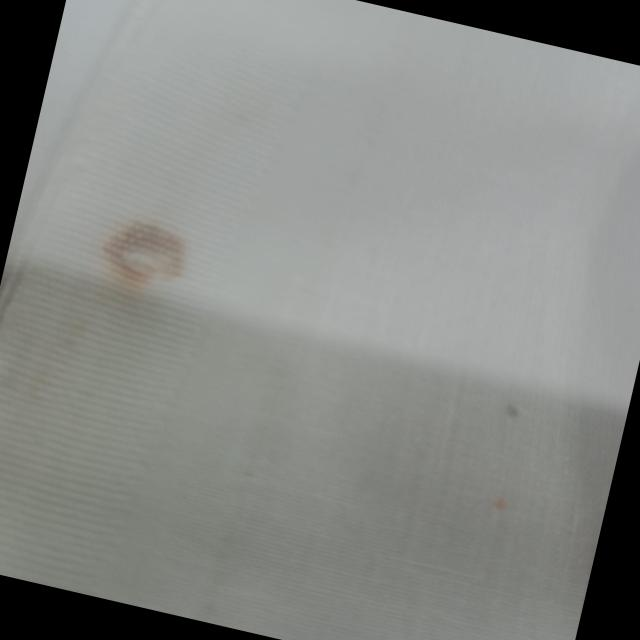stain: (88, 205, 205, 308), (469, 480, 525, 520), (490, 392, 538, 428)
